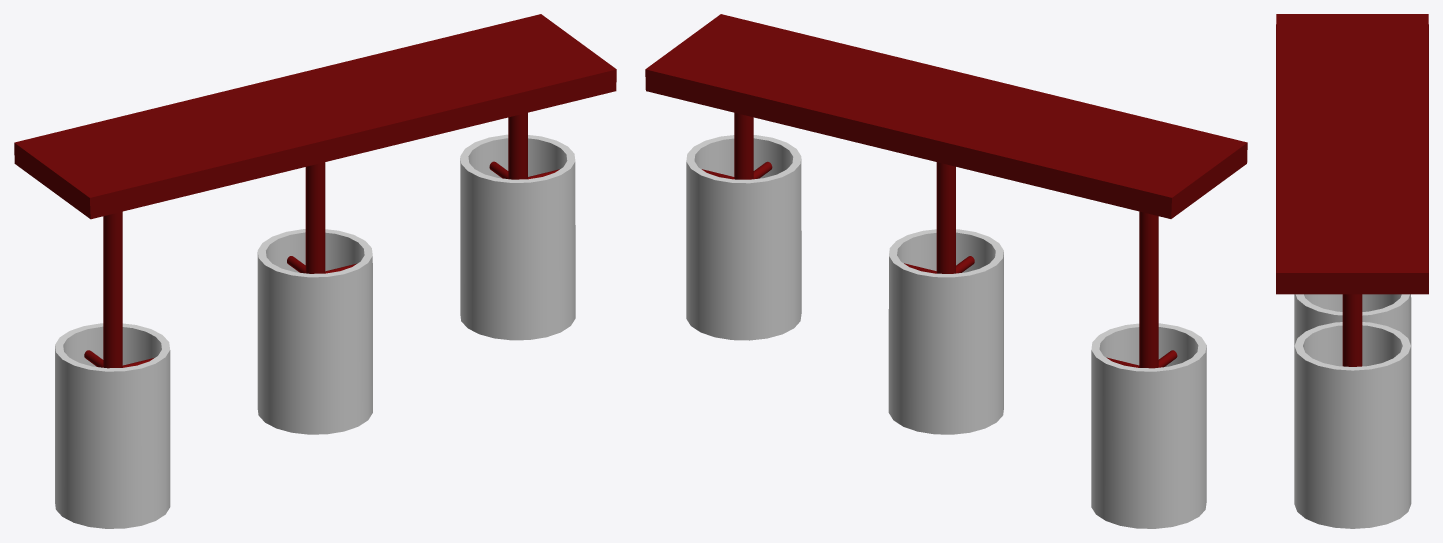
Rendered from Spot3_2.fbx.
The picture shows the model from 3 angles, left to right: view 1: azimuth 30°, elevation 25°; view 2: azimuth 150°, elevation 25°; view 3: azimuth 270°, elevation 25°; orthographic projection.
Visible parts, largest first — view 1: pCube2071, pPipe139, pPipe138, pPipe137, pCylinder858, pCylinder854, pCylinder850; view 2: pCube2071, pPipe137, pPipe139, pPipe138, pCylinder858, pCylinder854, pCylinder850; view 3: pCube2071, pPipe137, pPipe138, pCylinder850.
Part boxes in pixels (<box>): pCube2071: <box>14,14,616,219</box>; pPipe139: <box>55,323,170,528</box>; pPipe138: <box>257,229,372,434</box>; pPipe137: <box>460,134,575,340</box>; pCylinder858: <box>103,211,122,368</box>; pCylinder854: <box>305,162,325,273</box>; pCylinder850: <box>508,112,527,179</box>; pCube2071: <box>645,14,1247,218</box>; pPipe137: <box>686,135,801,340</box>; pPipe139: <box>1091,323,1206,528</box>; pPipe138: <box>888,229,1003,434</box>; pCylinder858: <box>1139,211,1158,368</box>; pCylinder854: <box>936,162,955,273</box>; pCylinder850: <box>734,112,753,179</box>; pCube2071: <box>1276,14,1428,294</box>; pPipe137: <box>1294,322,1411,528</box>; pPipe138: <box>1294,294,1411,405</box>; pCylinder850: <box>1342,294,1362,366</box>.
Size of the model in its own units: 30.58 by 19.36 by 7.63.
